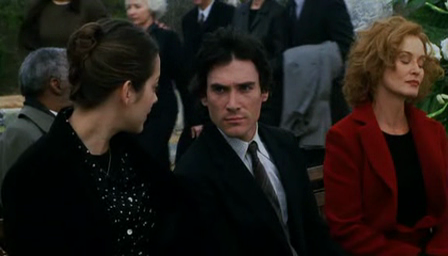face: (207, 73, 260, 138), (388, 39, 425, 96)
mcu: (1, 1, 448, 256)
person: (1, 17, 161, 256), (171, 26, 323, 256), (323, 13, 448, 256)
